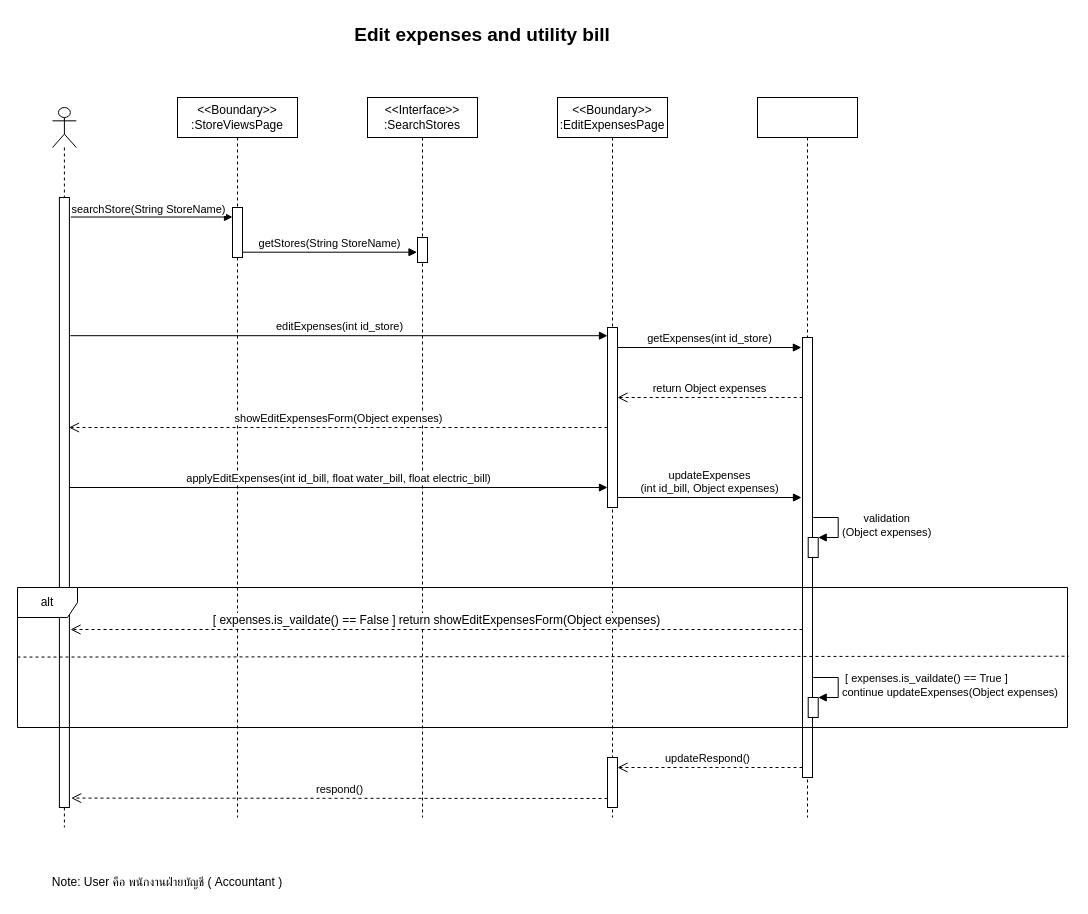
The diagram is 1088 pixels wide and 914 high, and some of its shapes have lost their labels. The box of each missing label's shape, as (x1, y1, x2, y2) in pixels:
<<Entity>> :Cost: (756, 96, 858, 818)
User: (52, 106, 76, 828)
